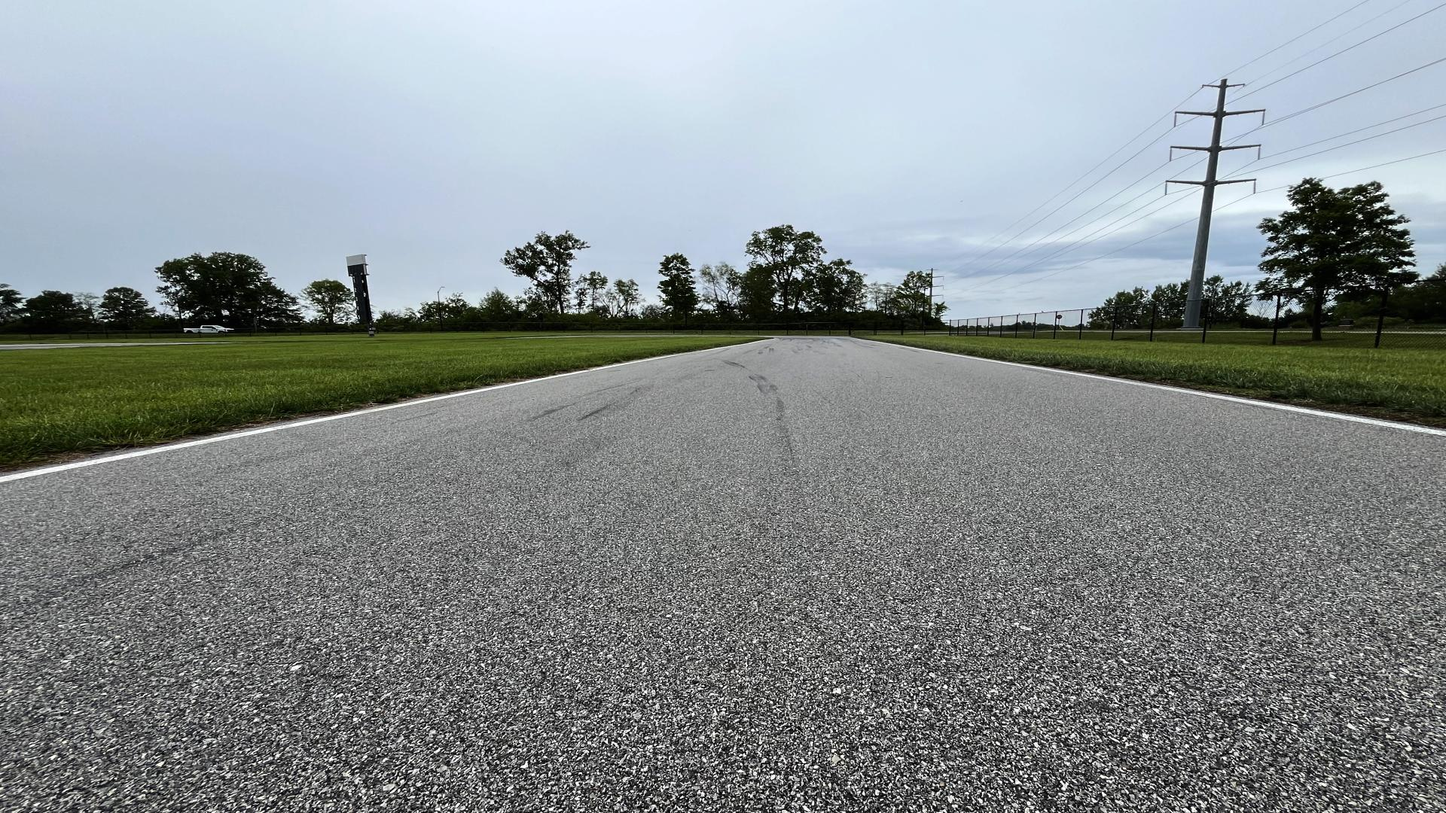white-line: (0, 339, 773, 483), (846, 337, 1445, 439)
